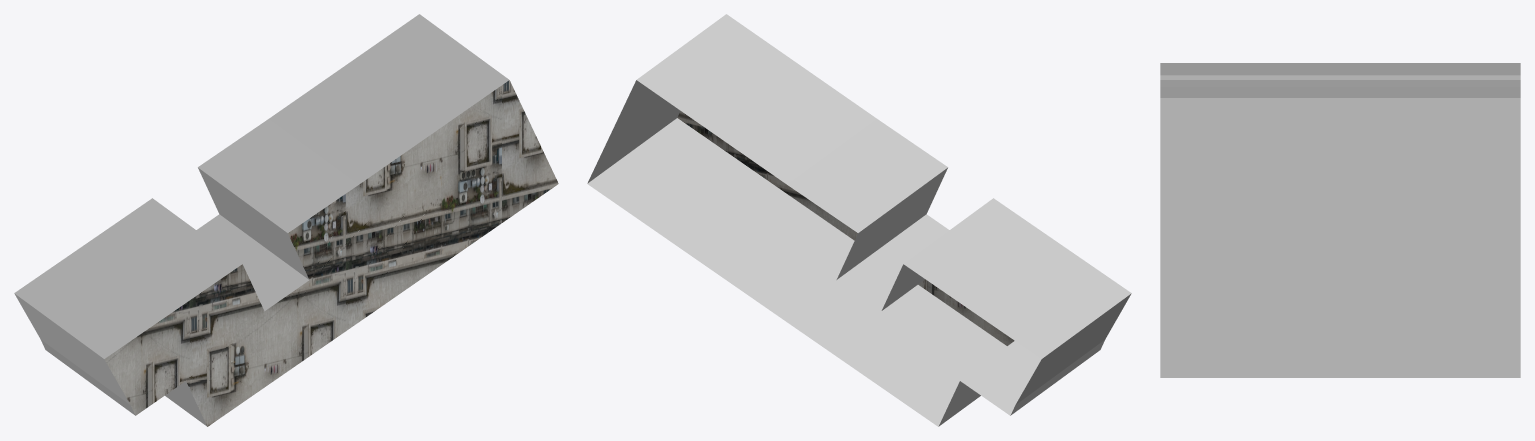
The model's file is geospecific_1341.obj.
The picture shows the model from 3 angles, left to right: view 1: azimuth 30°, elevation 25°; view 2: azimuth 150°, elevation 25°; view 3: azimuth 270°, elevation 25°; orthographic projection. The views are drawn at different scales.
Visible parts, largest first — view 1: Building; view 2: Building; view 3: Building.
Part boxes in pixels (x1=…): Building: x1=14, y1=14, x2=558, y2=426; Building: x1=587, y1=14, x2=1131, y2=426; Building: x1=1160, y1=63, x2=1520, y2=377.
Bounding box in the file's own units: 26.2 × 15.06 × 9.
